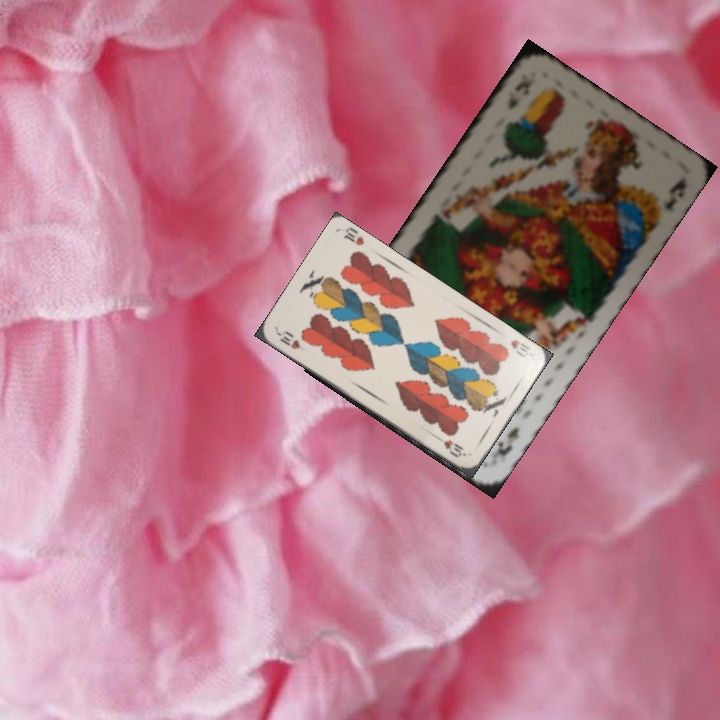EK: (504, 75, 535, 112), (492, 422, 522, 459)
H10: (273, 327, 309, 355), (506, 335, 532, 360)
